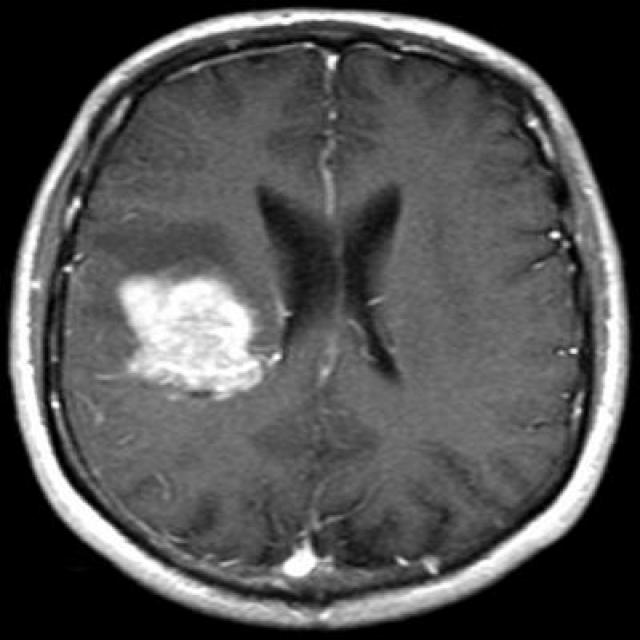tumor: (115, 264, 274, 399)
